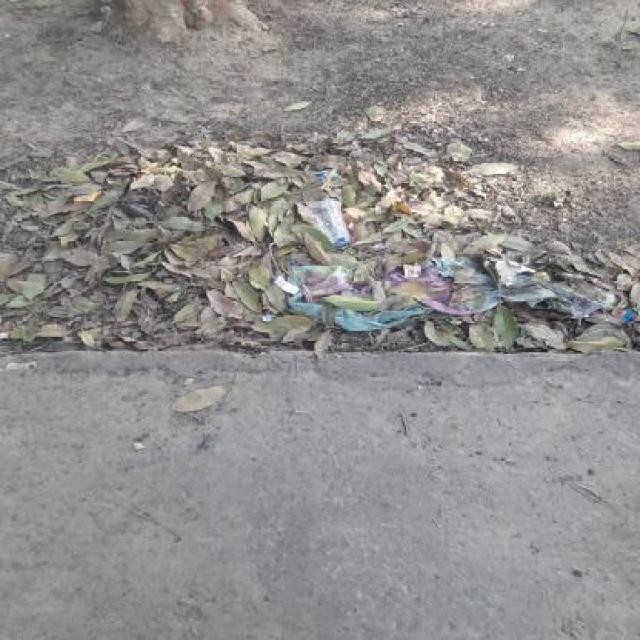garbage: (40, 131, 640, 360)
